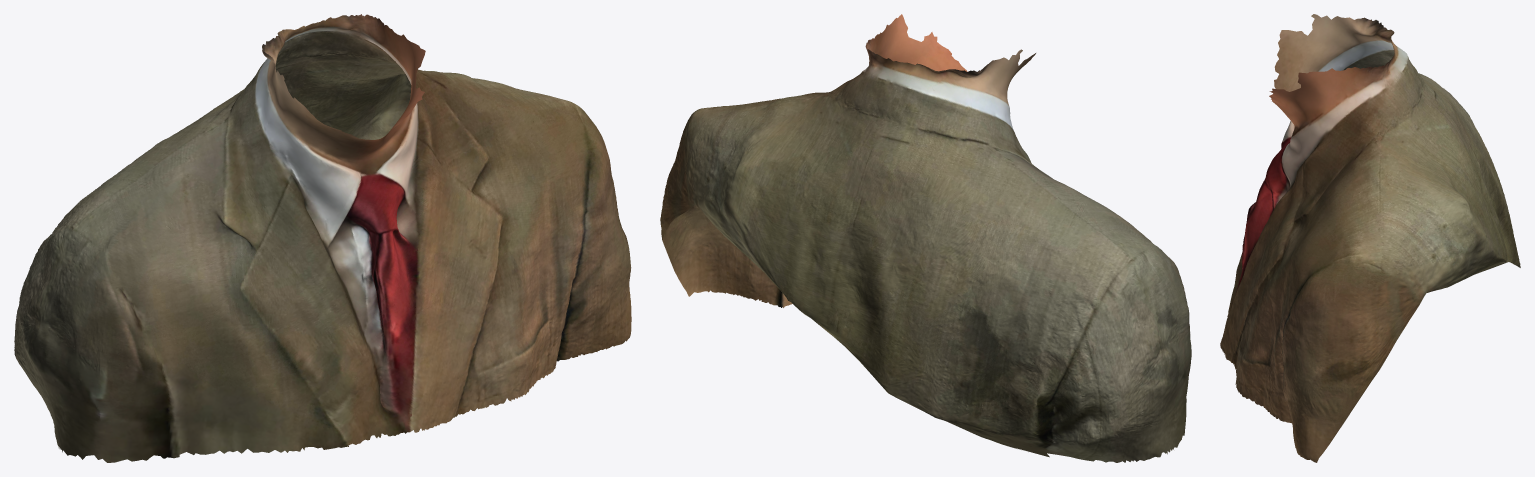
File: objectalt.glb
The picture shows the model from 3 angles, left to right: view 1: azimuth 30°, elevation 25°; view 2: azimuth 150°, elevation 25°; view 3: azimuth 270°, elevation 25°; orthographic projection. The views are drawn at different scales.
Parts seen in each view (by area): view 1: 3DModel; view 2: 3DModel; view 3: 3DModel.
Part boxes in pixels (<box>): 3DModel: <box>14,14,631,462</box>; 3DModel: <box>660,14,1191,462</box>; 3DModel: <box>1220,14,1520,462</box>.
Size of the model in its own units: 0.2085 by 0.1283 by 0.1111.
Materials: 1 (1 with a texture image).
